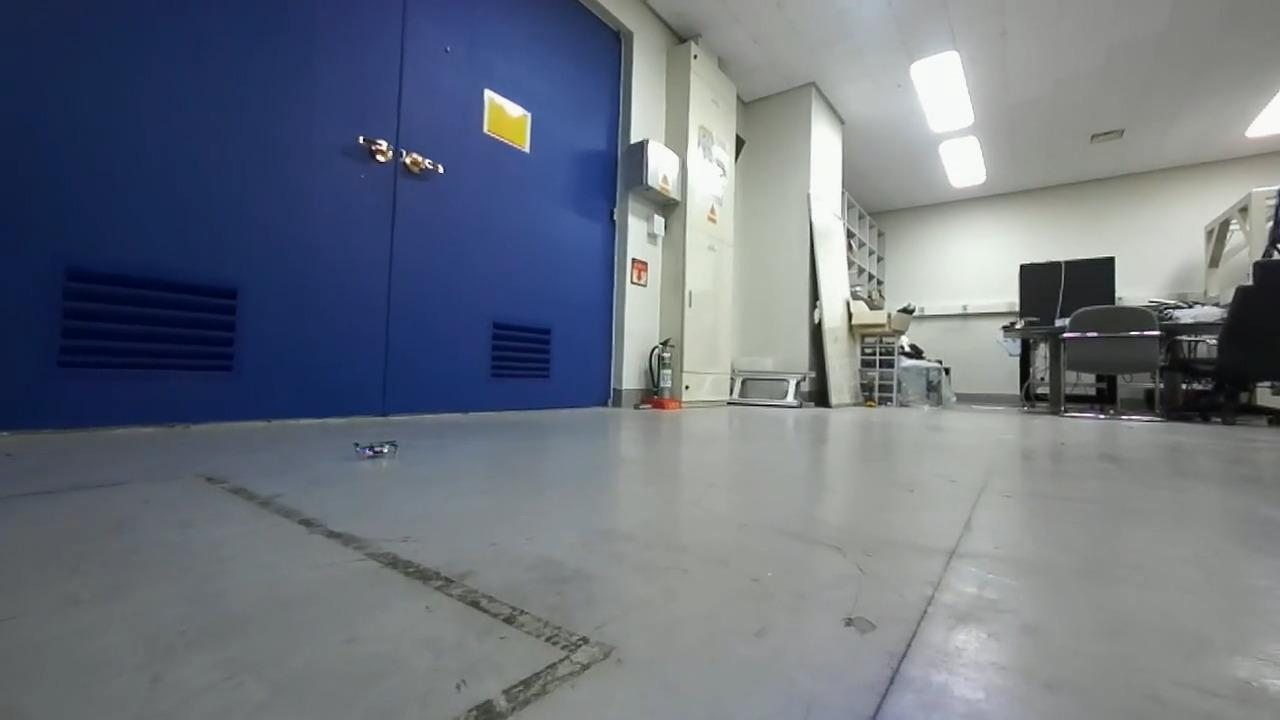crazyflie: (347, 433, 402, 463)
